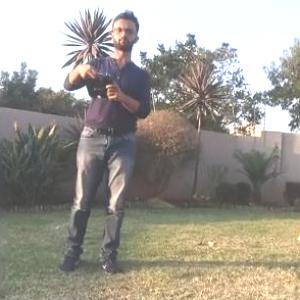follow: (52, 4, 153, 278)
